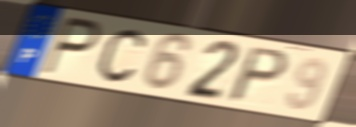2: (183, 39, 241, 102)
6: (141, 31, 196, 95)
9: (285, 55, 332, 113)
C: (96, 28, 147, 85)
P: (39, 14, 104, 78), (224, 45, 292, 105)
